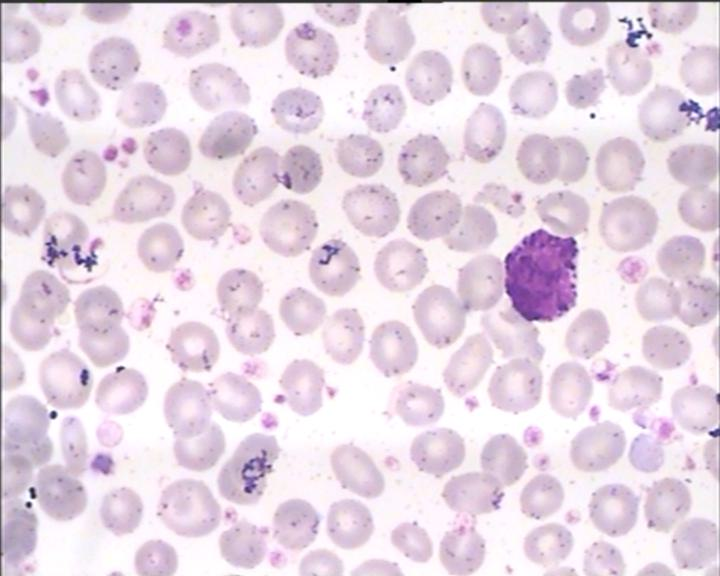baso: (496, 225, 585, 324)
